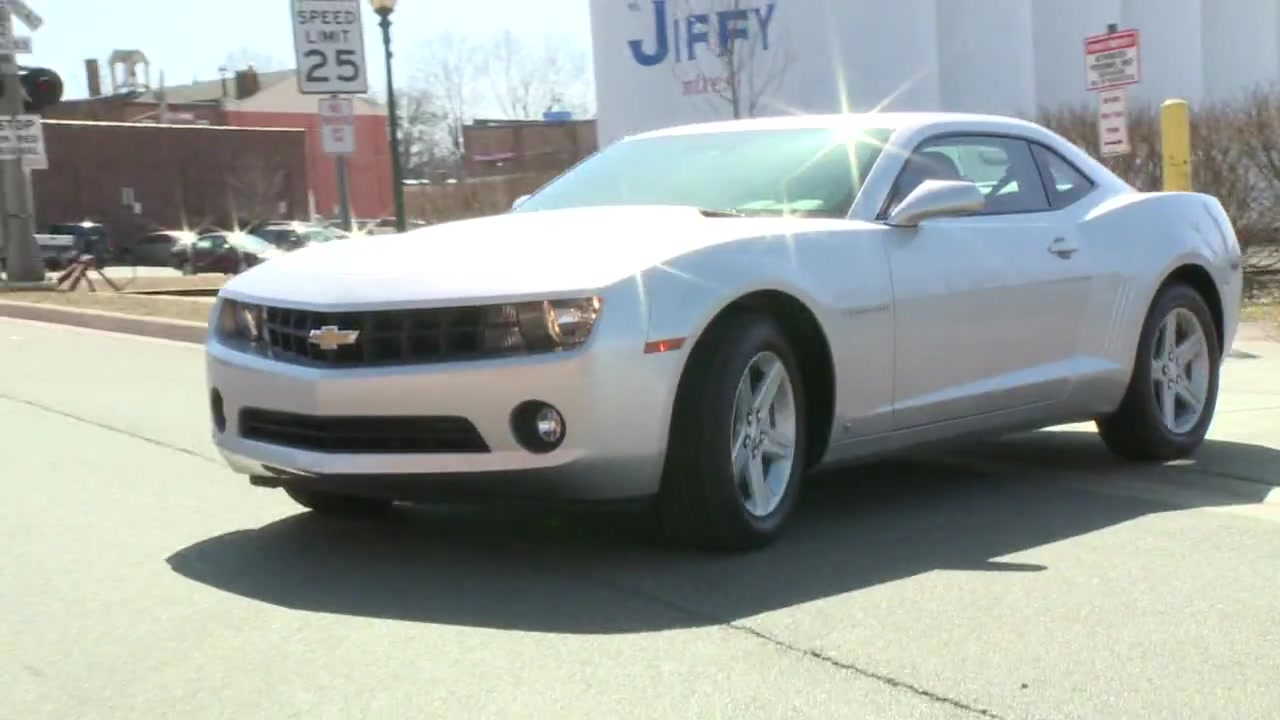car: (206, 112, 1247, 561)
